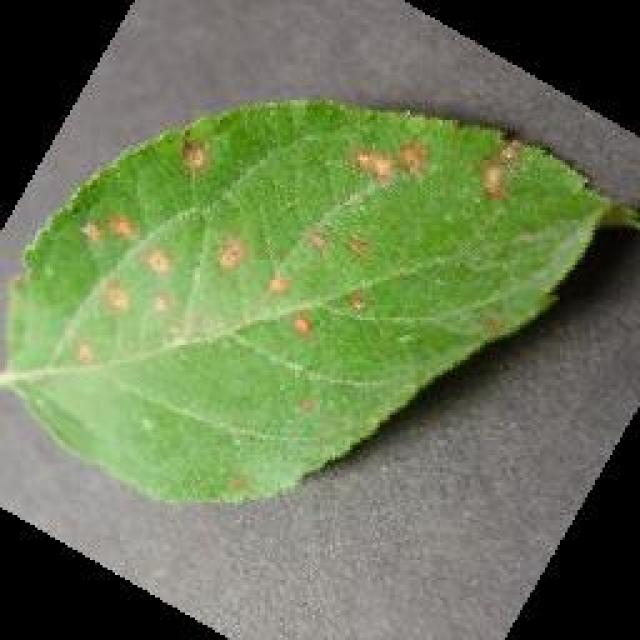apple rust disease: (0, 95, 625, 505)
